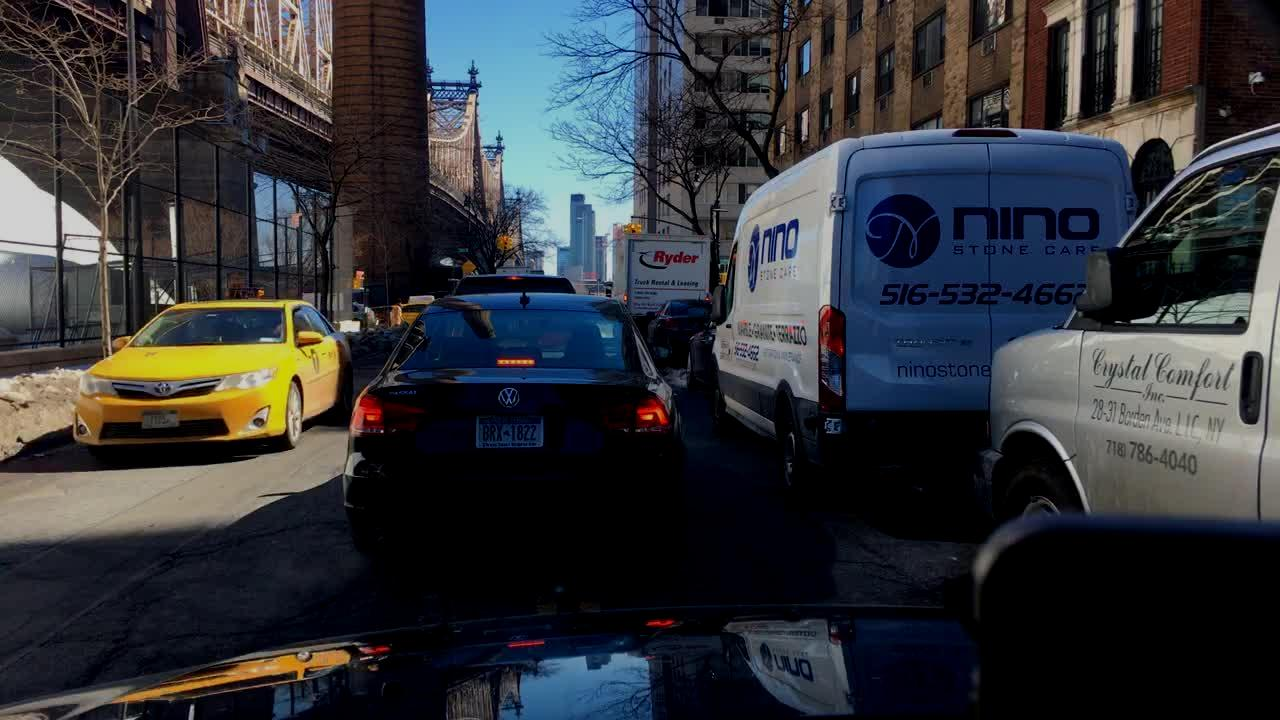Toyota: (148, 374, 177, 401)
Volkswagen: (490, 378, 530, 415)
